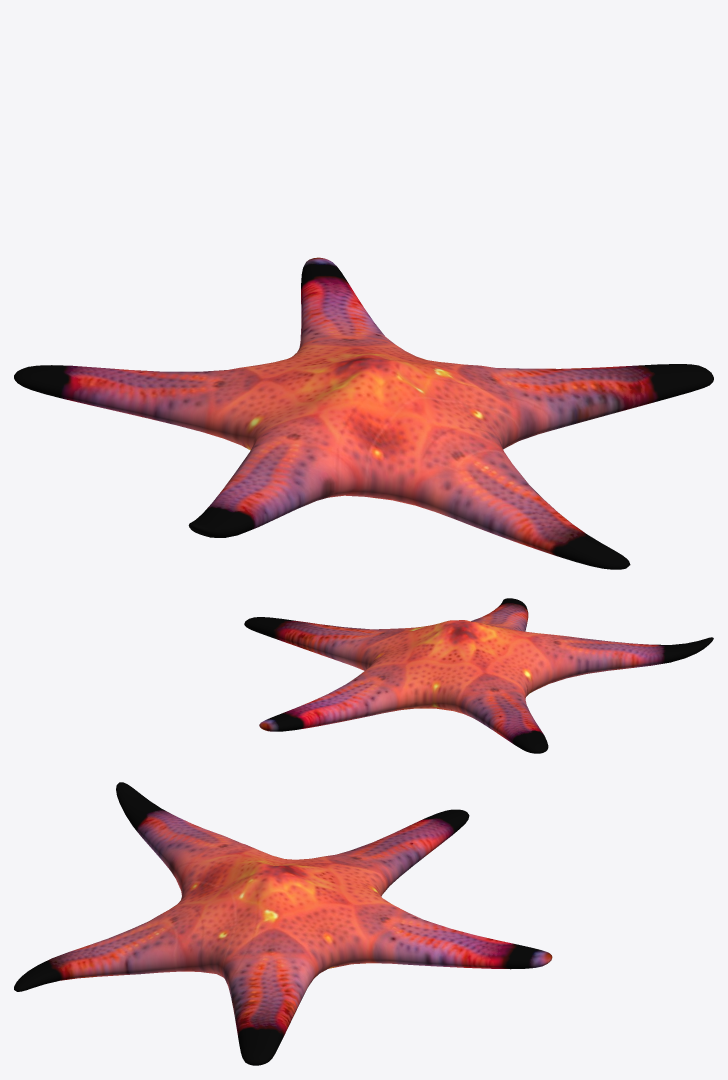
Rendered from starfish.obj.
3 views of the same model, one above another, from view 1: azimuth 30°, elevation 25°; view 2: azimuth 150°, elevation 25°; view 3: azimuth 270°, elevation 25° (orthographic). The views are drawn at different scales.
Visible parts, largest first — view 1: Form01(Clone); view 2: Form01(Clone); view 3: Form01(Clone).
Boxes of the visible parts, left/top/right/bottom form: Form01(Clone): left=14, top=257, right=713, bottom=569; Form01(Clone): left=244, top=598, right=713, bottom=753; Form01(Clone): left=14, top=782, right=552, bottom=1065.
Size of the model in its own units: 50.63 by 12.62 by 55.08.
